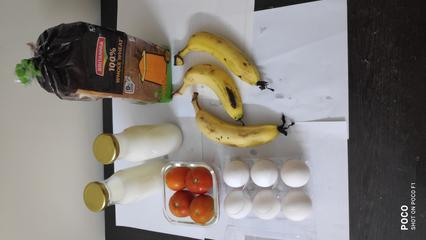banana: (189, 31, 308, 149)
bread: (20, 28, 175, 110)
eggs: (228, 160, 317, 223)
milk: (70, 169, 163, 212), (79, 128, 192, 161)
tomato: (158, 155, 217, 233)
